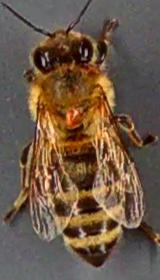varroa_mite: (58, 94, 92, 132)
